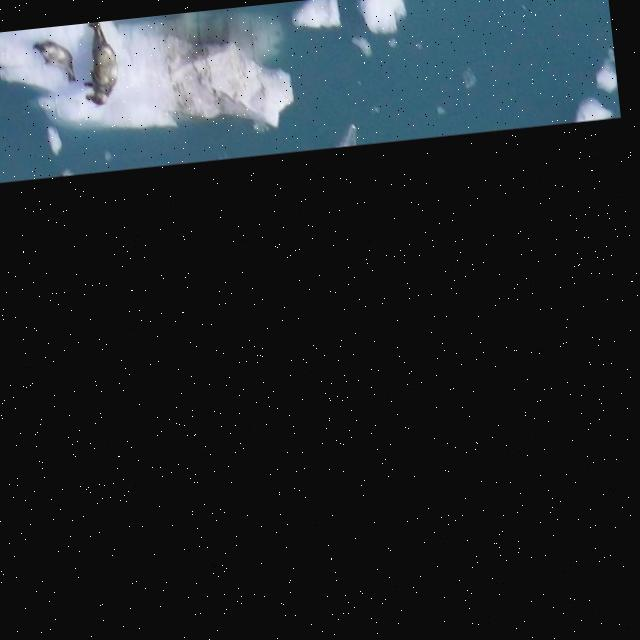seal: (85, 21, 118, 105), (34, 39, 75, 81)
